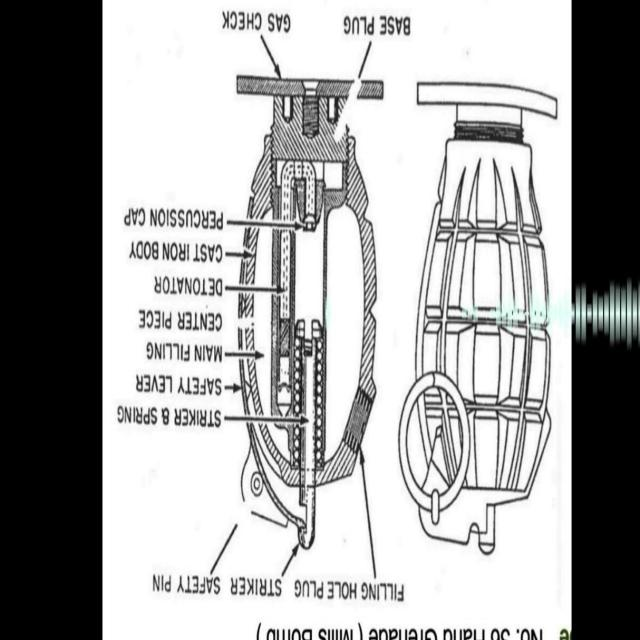grenade: (399, 84, 560, 557)
